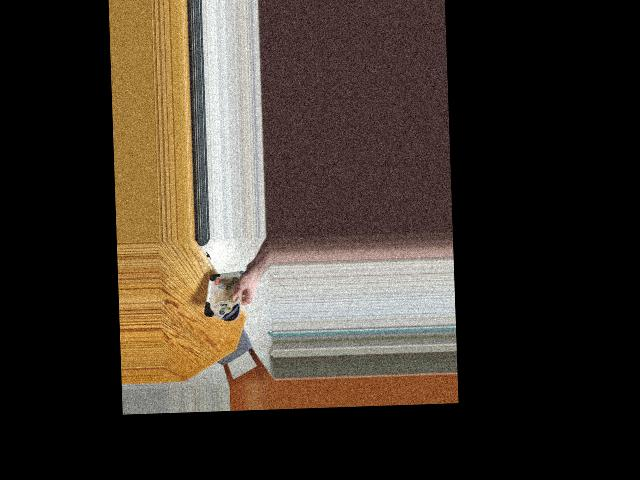cheese: (202, 269, 249, 322)
